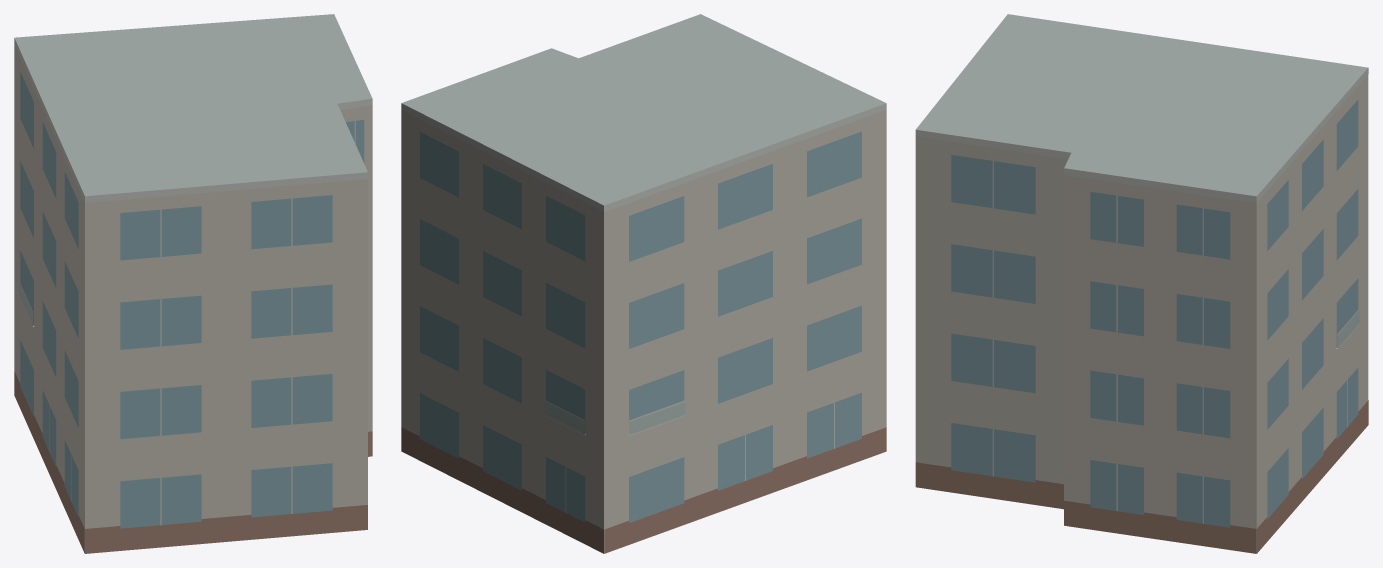
The model's file is survey-upis-32899145.glb.
3 renders of one model, left to right at view 1: azimuth 30°, elevation 25°; view 2: azimuth 150°, elevation 25°; view 3: azimuth 270°, elevation 25°, orthographic. The views are drawn at different scales.
Parts seen in each view (by area): view 1: survey-upis-32899145.tmp; view 2: survey-upis-32899145.tmp; view 3: survey-upis-32899145.tmp.
Boxes of the visible parts, x1,y1,x2,y2 form: survey-upis-32899145.tmp: (14, 14, 372, 553); survey-upis-32899145.tmp: (401, 14, 886, 553); survey-upis-32899145.tmp: (915, 14, 1368, 553).
Bounding box in the file's own units: 14.23 × 13 × 14.93.
